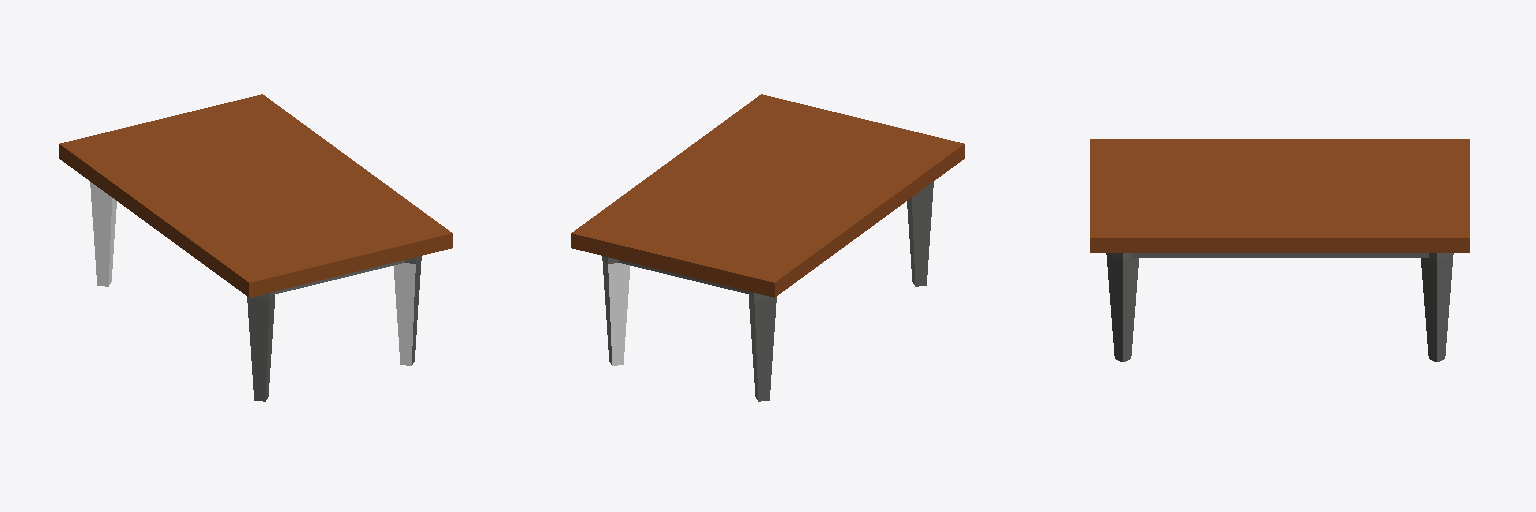
The model's file is Scuplt_Leg_Table.obj.
3 renders of one model, left to right at view 1: azimuth 30°, elevation 25°; view 2: azimuth 150°, elevation 25°; view 3: azimuth 270°, elevation 25°, orthographic.
Visible parts, largest first — view 1: Mesh1 Model; view 2: Mesh1 Model; view 3: Mesh1 Model.
Part boxes in pixels (x1,y1,x2,y2): Mesh1 Model: (59, 94, 452, 401); Mesh1 Model: (571, 94, 964, 401); Mesh1 Model: (1090, 139, 1469, 361).
Bounding box in the file's own units: 1.42 × 0.9 × 2.3.